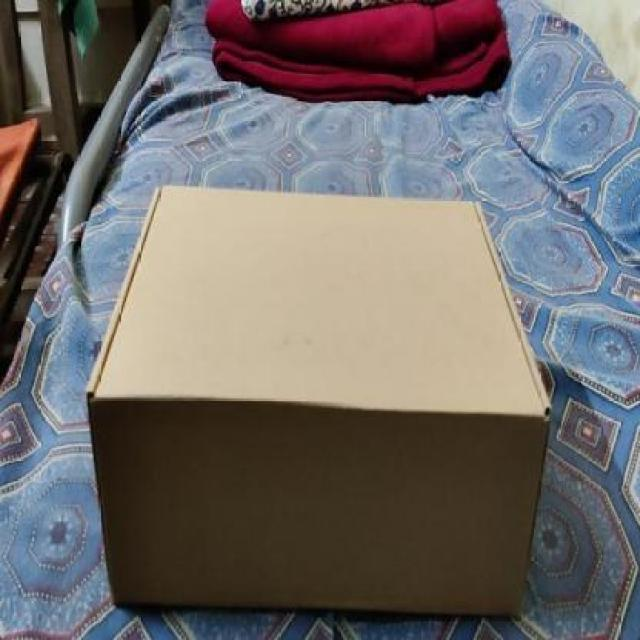box: (78, 168, 549, 626)
